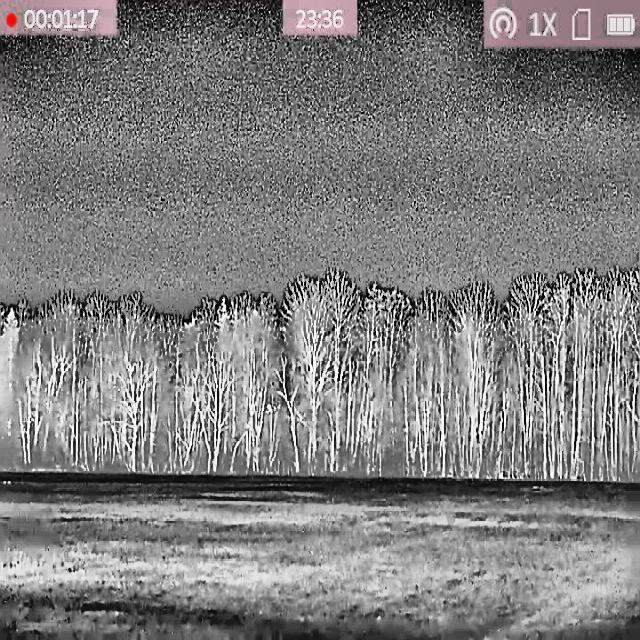drone: (262, 398, 279, 416)
